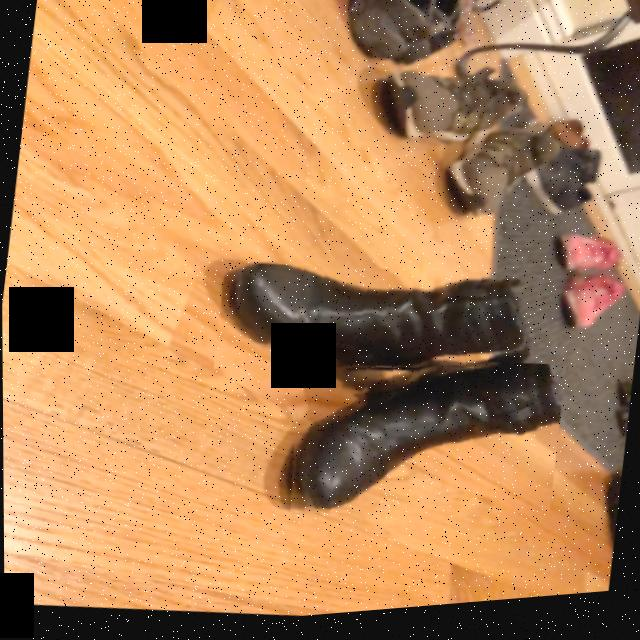shoe: (289, 370, 560, 519), (221, 268, 527, 375)
